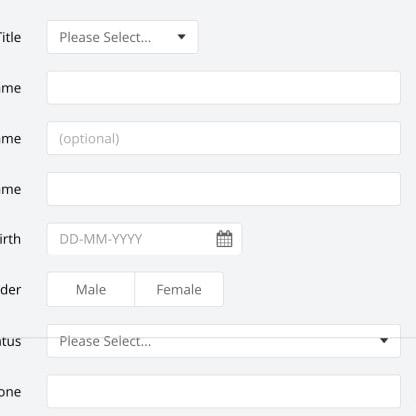button: (136, 270, 229, 309), (46, 268, 138, 307)
field: (40, 118, 402, 155), (41, 171, 400, 207), (38, 373, 401, 408), (41, 72, 402, 105), (40, 220, 241, 256)
